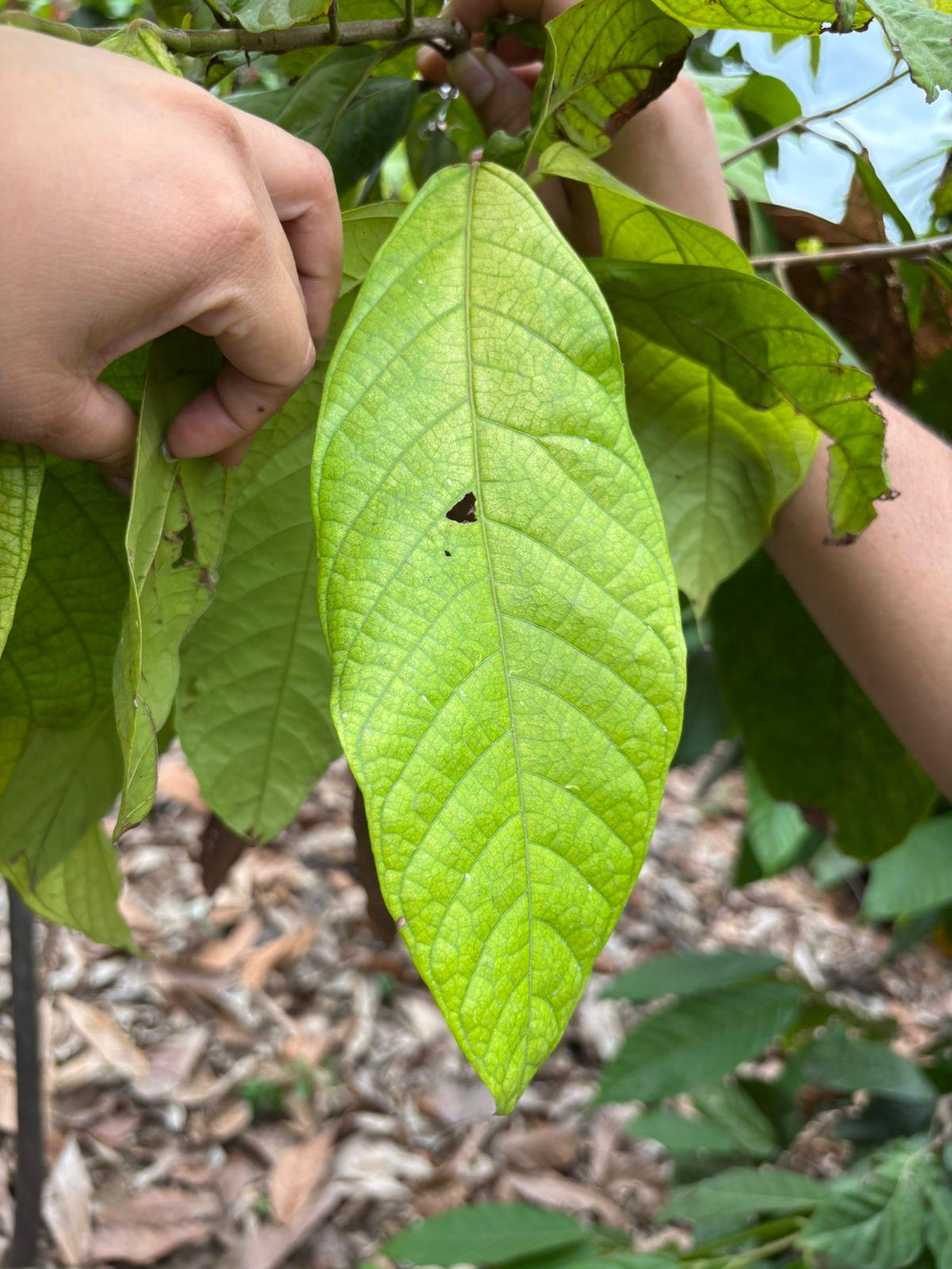deficiencia_nitrogeno: (311, 164, 685, 1111)
